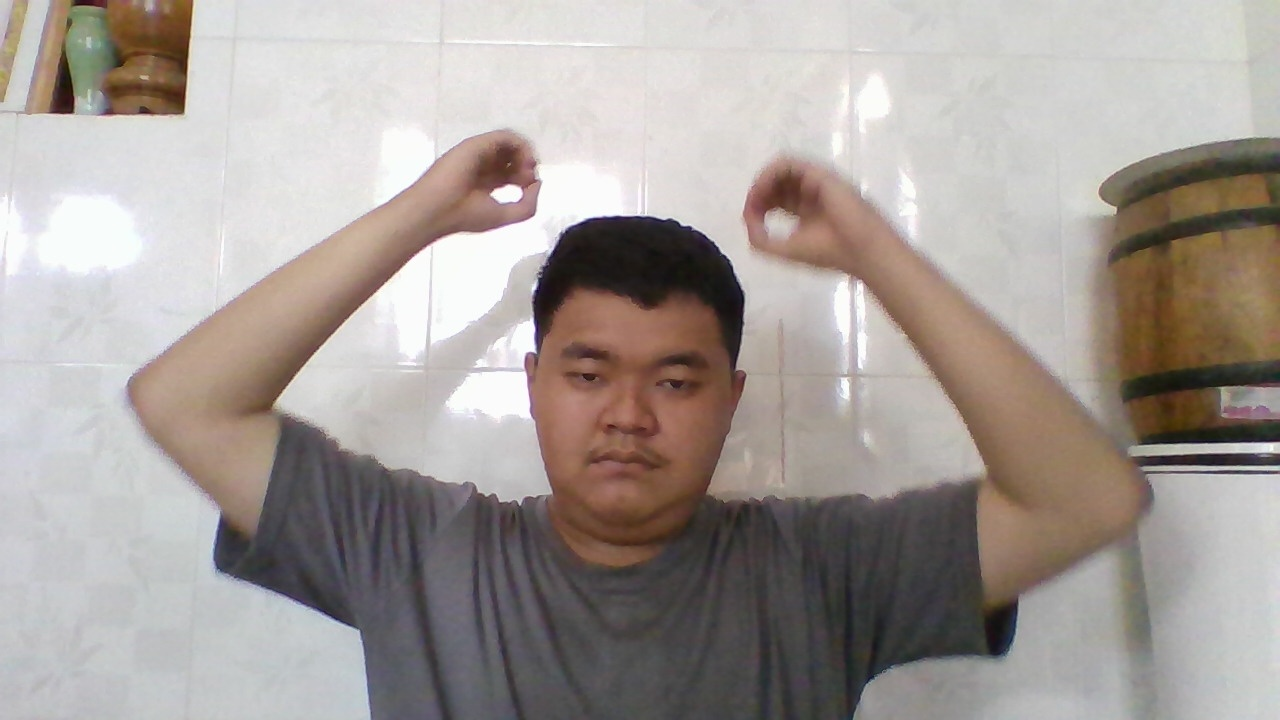O: (732, 147, 874, 270), (425, 118, 551, 236)
